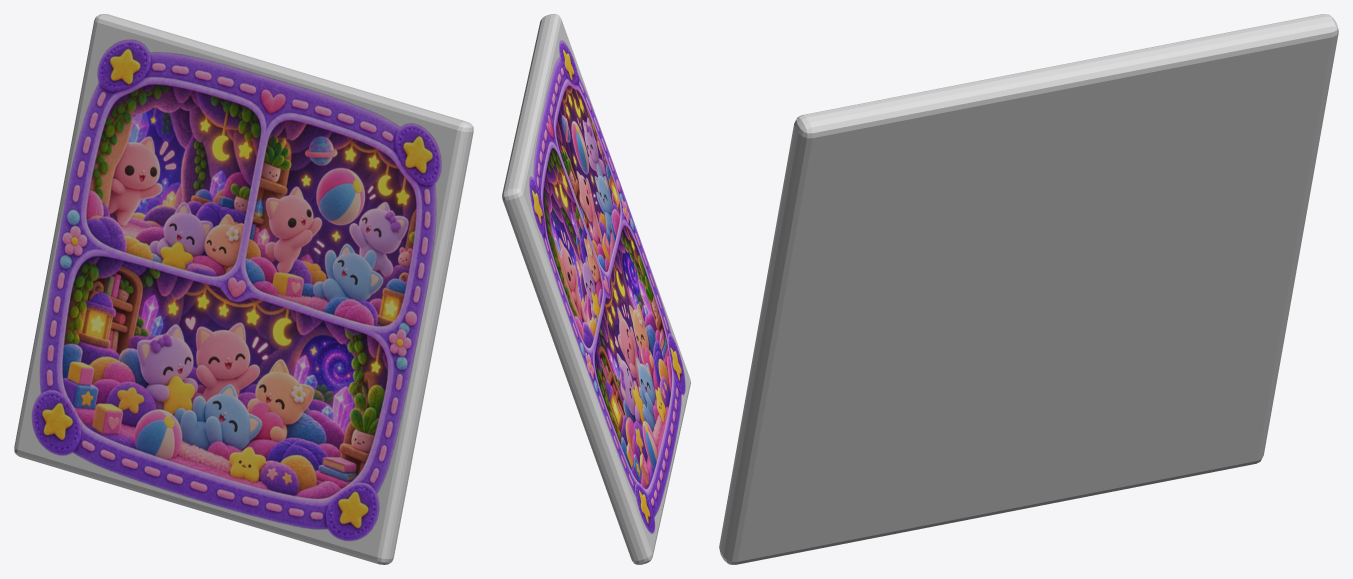
The model's file is memory_11.glb.
3 views of the same model, side by side, from view 1: azimuth 30°, elevation 25°; view 2: azimuth 150°, elevation 25°; view 3: azimuth 270°, elevation 25° (orthographic). The views are drawn at different scales.
Parts seen in each view (by area): view 1: memory_11_page; view 2: memory_11_page; view 3: memory_11_page.
Boxes of the visible parts, x1,y1,x2,y2 form: memory_11_page: [14, 14, 473, 564]; memory_11_page: [502, 14, 690, 564]; memory_11_page: [719, 14, 1338, 564].
Size of what is drawn, in the model's own units: 0.5807 by 0.7641 by 0.8349.
2 materials, 1 textured.
